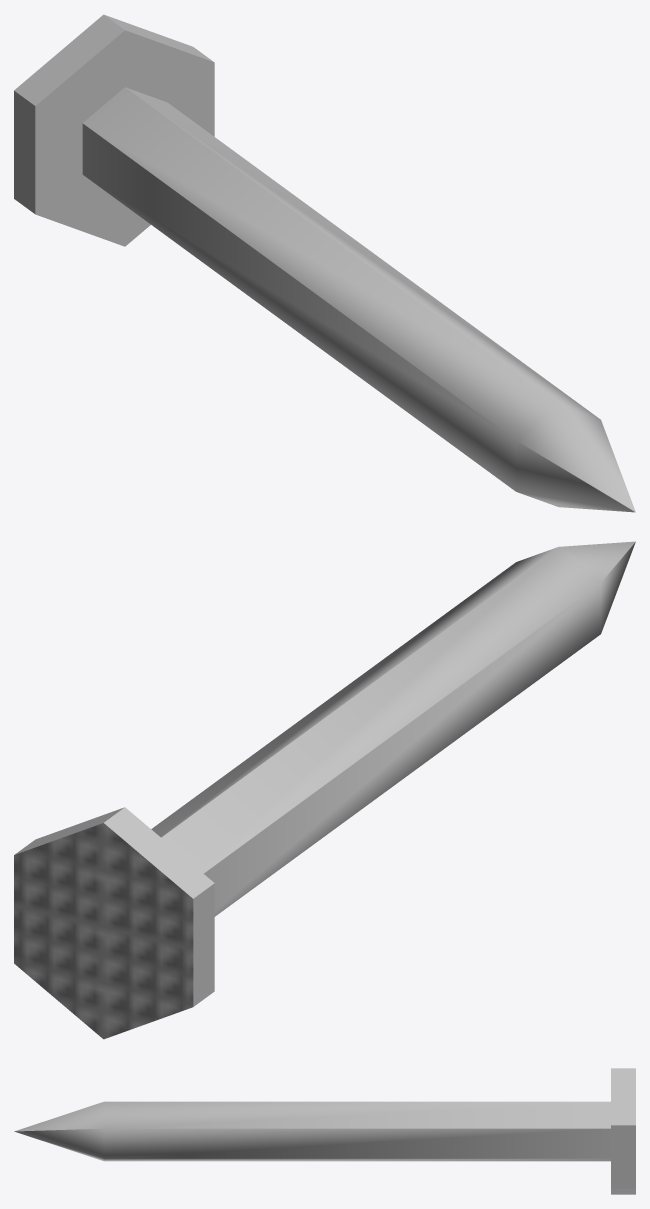
The model's file is Nail.fbx.
3 views of the same model, one above another, from view 1: azimuth 30°, elevation 25°; view 2: azimuth 150°, elevation 25°; view 3: azimuth 270°, elevation 25° (orthographic). The views are drawn at different scales.
Parts seen in each view (by area): view 1: obj1; view 2: obj1; view 3: obj1.
Part boxes in pixels (<box>): obj1: <box>14,14,635,512</box>; obj1: <box>14,541,635,1039</box>; obj1: <box>14,1068,635,1194</box>.
Size of the model in its own units: 4.42 by 5.11 by 22.75.
